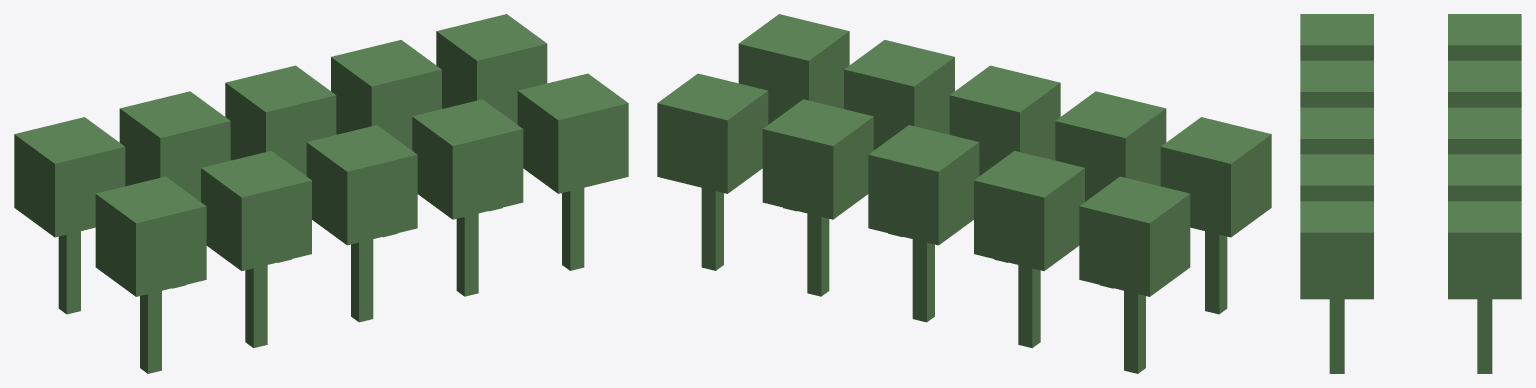
File: Tree-rows.glb
3 views of the same model, side by side, from view 1: azimuth 30°, elevation 25°; view 2: azimuth 150°, elevation 25°; view 3: azimuth 270°, elevation 25° (orthographic). The views are drawn at different scales.
Visible parts, largest first — view 1: tree-rows-static-tree-leaf, tree-rows-static-tree-trunk; view 2: tree-rows-static-tree-leaf, tree-rows-static-tree-trunk; view 3: tree-rows-static-tree-leaf, tree-rows-static-tree-trunk.
Boxes of the visible parts, left/top/right/bottom form: tree-rows-static-tree-leaf: left=14, top=14, right=628, bottom=296; tree-rows-static-tree-trunk: left=58, top=188, right=584, bottom=373; tree-rows-static-tree-leaf: left=657, top=14, right=1271, bottom=296; tree-rows-static-tree-trunk: left=701, top=188, right=1227, bottom=373; tree-rows-static-tree-leaf: left=1300, top=14, right=1521, bottom=299; tree-rows-static-tree-trunk: left=1329, top=299, right=1492, bottom=373.
Size of the model in its own units: 7 by 2.3 by 3.
